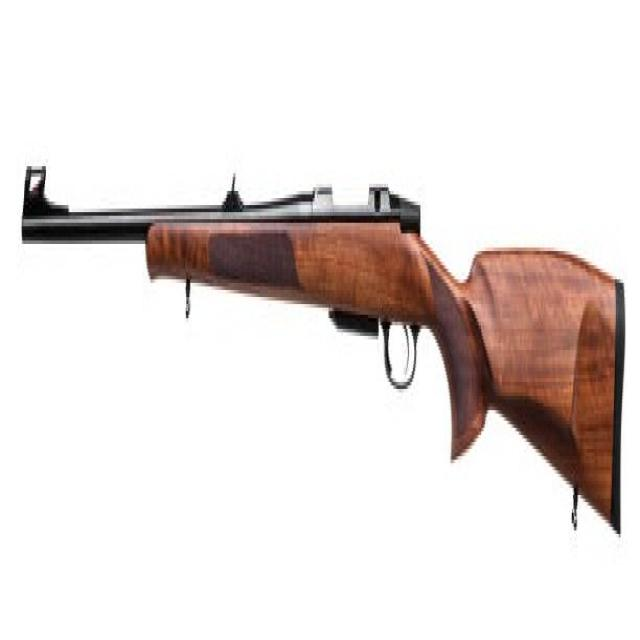rifle: (22, 154, 632, 552)
